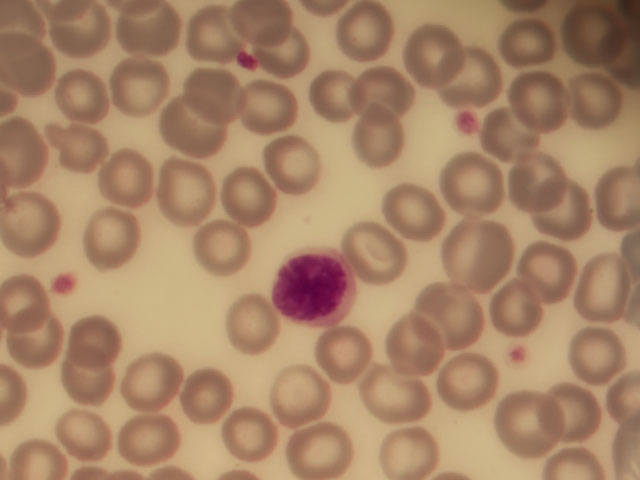Platelets: (42, 271, 81, 295), (457, 108, 482, 139), (233, 52, 264, 74), (504, 342, 531, 367)
RBC: (55, 59, 115, 121), (115, 56, 175, 118), (117, 7, 177, 69), (42, 1, 102, 63), (2, 24, 62, 86), (44, 116, 104, 178), (107, 142, 167, 204), (88, 201, 148, 263), (9, 191, 69, 253), (5, 272, 65, 334), (13, 312, 73, 374), (61, 311, 121, 373), (57, 342, 117, 404), (54, 397, 114, 459), (113, 351, 173, 413), (115, 410, 175, 472), (185, 365, 245, 427), (213, 406, 273, 468), (261, 362, 321, 424), (223, 294, 283, 356), (196, 217, 256, 279), (221, 174, 281, 236), (160, 162, 220, 224), (164, 99, 224, 161), (191, 59, 251, 121), (236, 78, 296, 140), (262, 130, 322, 192), (305, 62, 365, 124), (357, 59, 417, 121), (352, 109, 412, 171), (332, 2, 392, 64), (406, 25, 466, 87), (439, 46, 499, 108), (515, 64, 575, 126), (475, 107, 535, 169), (503, 155, 563, 217), (444, 151, 504, 213), (377, 178, 437, 240), (356, 224, 416, 286), (465, 221, 525, 283), (426, 279, 486, 341), (389, 307, 449, 369), (317, 329, 377, 391), (365, 365, 425, 427), (443, 348, 503, 410), (382, 418, 442, 480), (282, 418, 342, 480), (494, 392, 554, 454), (542, 379, 602, 441), (568, 324, 628, 386), (580, 263, 640, 325), (530, 239, 590, 301), (494, 271, 554, 333), (541, 185, 601, 247), (580, 168, 640, 230), (573, 71, 633, 133), (501, 16, 561, 78), (178, 1, 238, 62), (1, 130, 60, 192), (190, 1, 233, 58), (235, 1, 291, 38)
WBC: (271, 243, 359, 331)
